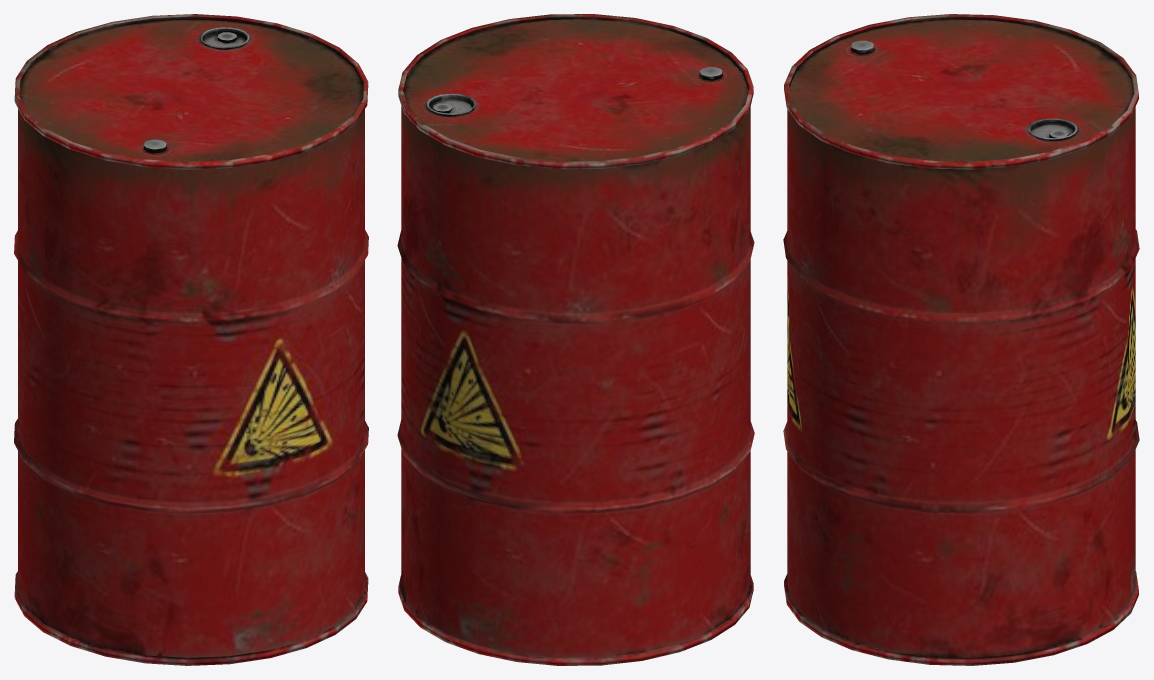
Rendered from Barrel_01.glb.
3 renders of one model, left to right at view 1: azimuth 30°, elevation 25°; view 2: azimuth 150°, elevation 25°; view 3: azimuth 270°, elevation 25°, orthographic.
Parts seen in each view (by area): view 1: Barrel_01; view 2: Barrel_01; view 3: Barrel_01.
Part boxes in pixels (box(x1,y1,x2,y2)): Barrel_01: box(14, 14, 368, 665); Barrel_01: box(397, 14, 754, 665); Barrel_01: box(783, 14, 1139, 665).
Size of the model in its own units: 0.5627 by 0.88 by 0.5627.
Materials: 1 (1 with a texture image).
